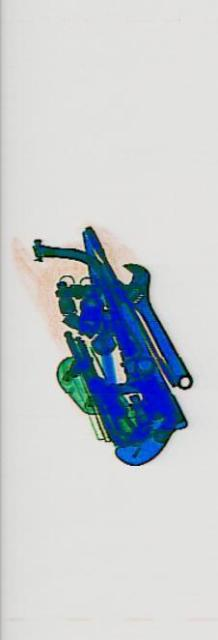Wrench: (112, 235, 195, 415)
